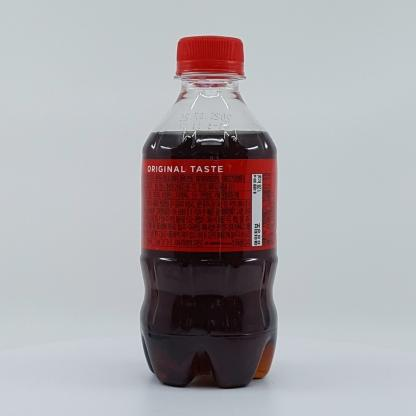--------300ML: (140, 35, 278, 389)
